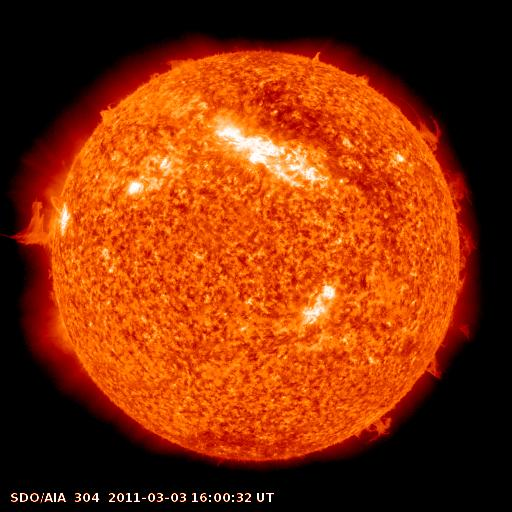prominence: (431, 161, 485, 302), (419, 313, 482, 386), (302, 42, 385, 87), (399, 94, 455, 157), (1, 199, 65, 253), (343, 408, 405, 454), (140, 51, 206, 85), (91, 91, 127, 132), (38, 266, 69, 309)
